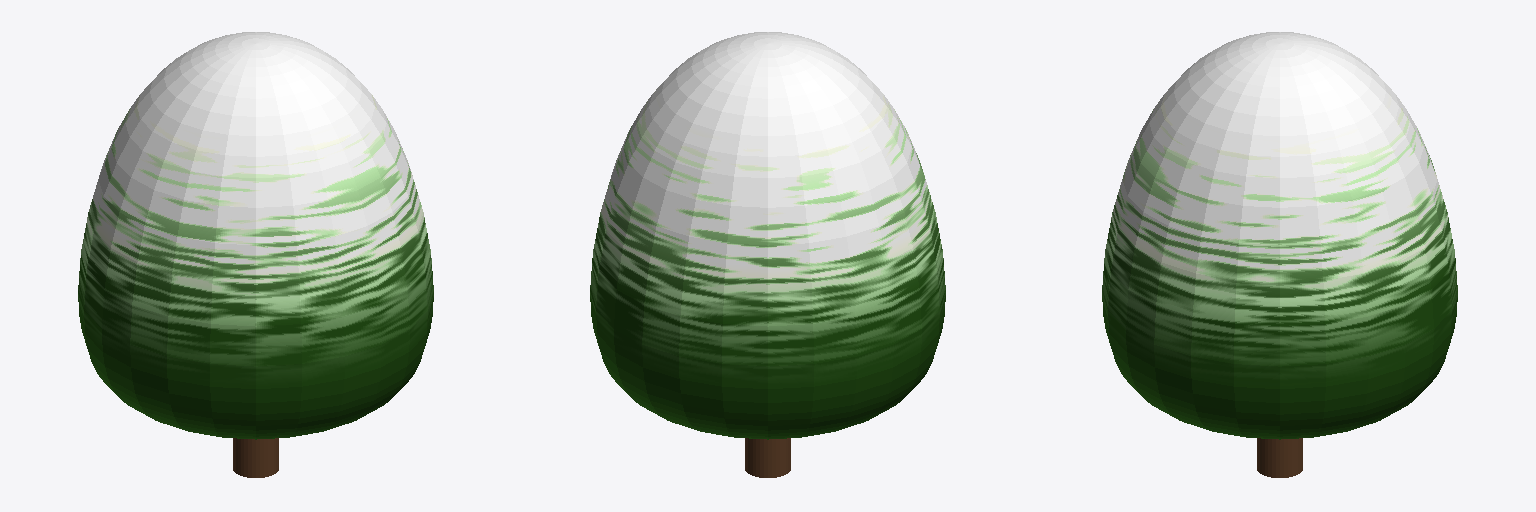
3 views of the same model, side by side, from view 1: azimuth 30°, elevation 25°; view 2: azimuth 150°, elevation 25°; view 3: azimuth 270°, elevation 25° (orthographic).
Visible parts, largest first — view 1: Tree, Cylinder; view 2: Tree, Cylinder; view 3: Tree, Cylinder.
Part boxes in pixels (bbox=[...]): Tree: bbox=[78, 32, 433, 439]; Cylinder: bbox=[233, 438, 278, 477]; Tree: bbox=[590, 32, 945, 439]; Cylinder: bbox=[745, 438, 790, 477]; Tree: bbox=[1102, 32, 1457, 439]; Cylinder: bbox=[1257, 438, 1302, 477].
Size of the model in its own units: 36.57 by 48.16 by 36.57.
Materials: 2 (2 with a texture image).